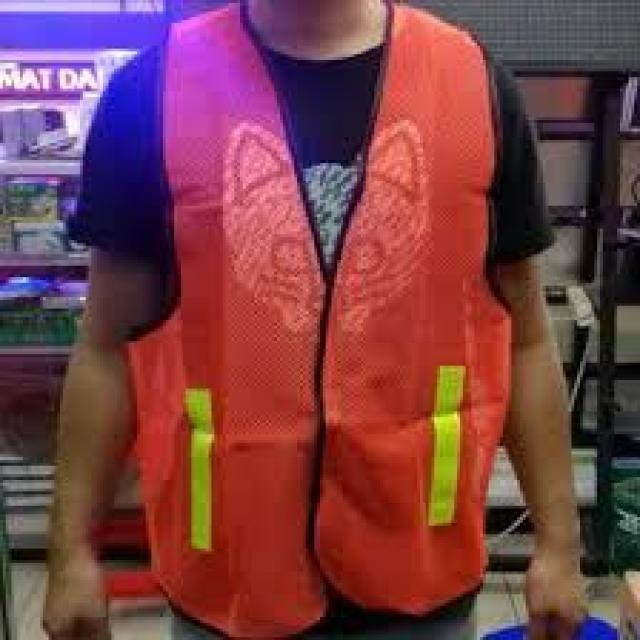vest: (126, 20, 497, 626)
